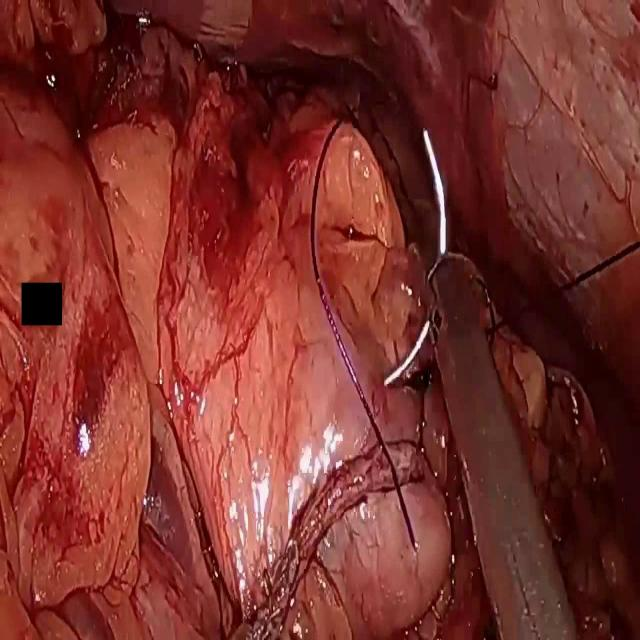surgical-tool: (428, 250, 584, 639)
